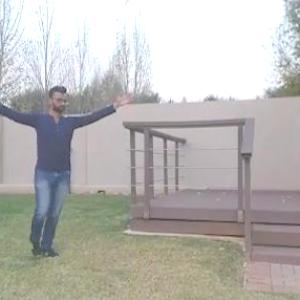takeoff: (0, 86, 140, 254)
